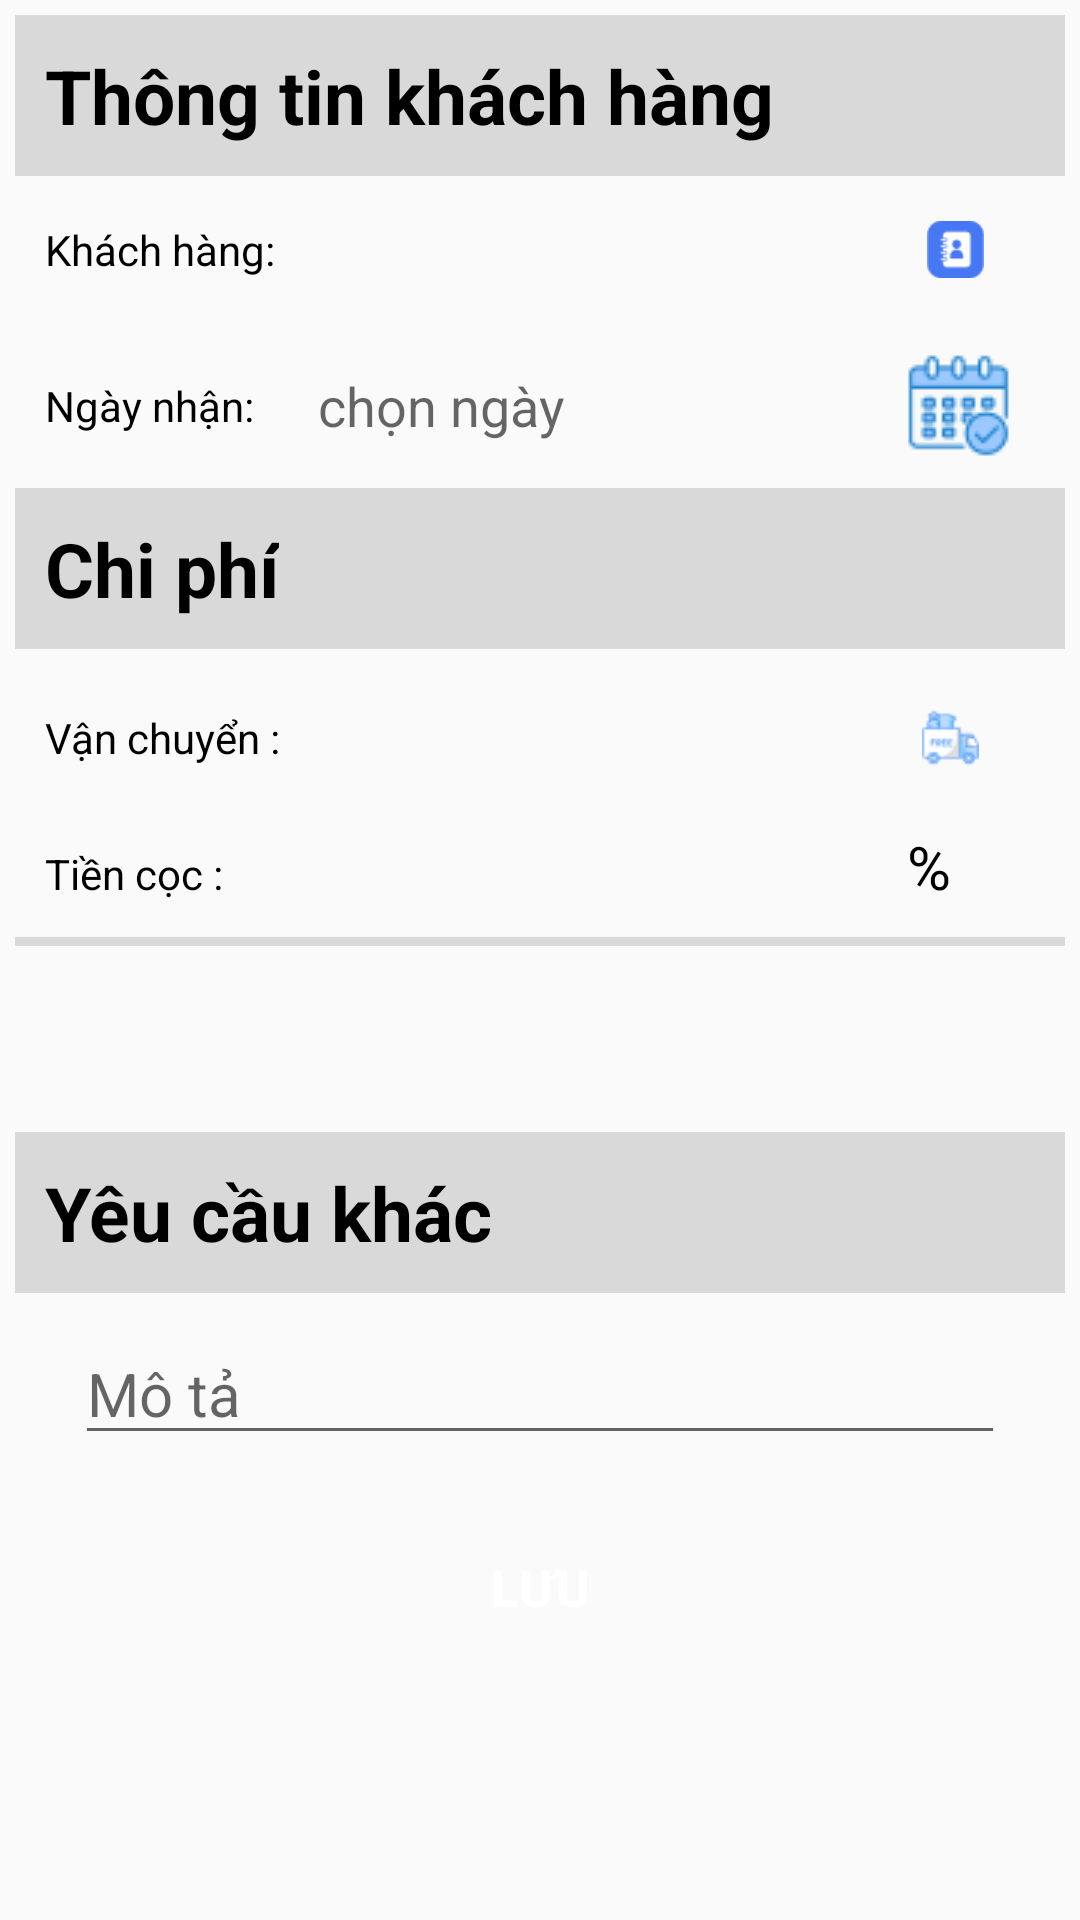

Screen size 1080x1920. Icon name, then its center in pixels as (x=x, y=y):
ngaynhanhang: (x=958, y=405)
tenkhhd: (x=955, y=249)
